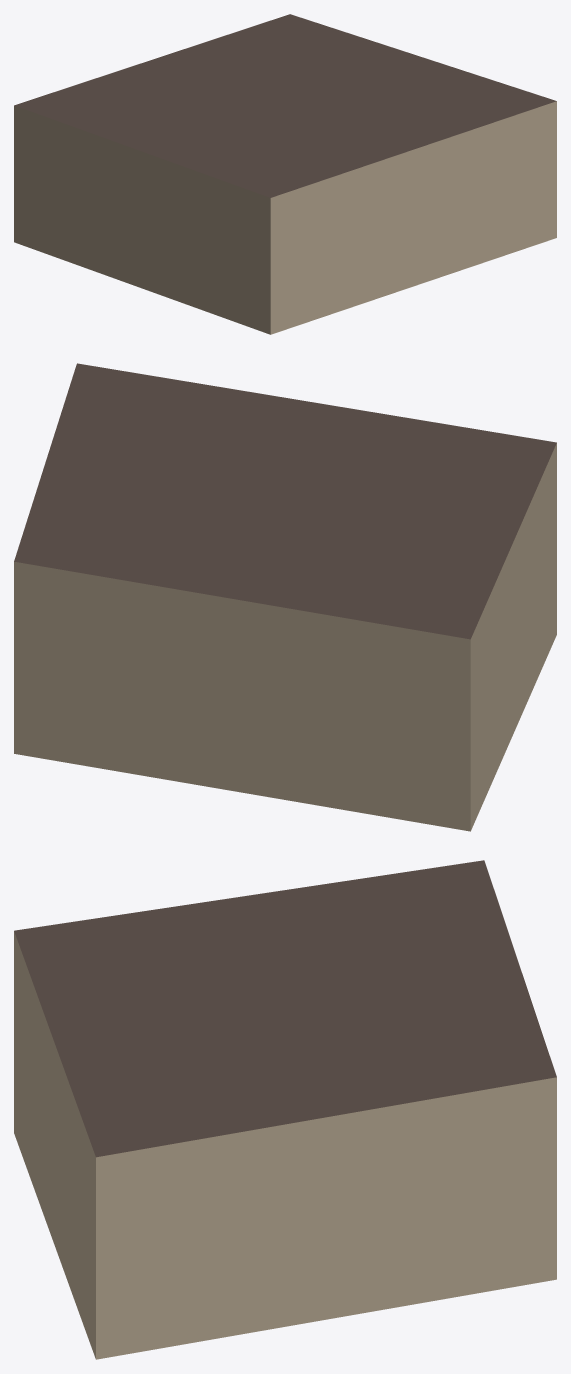
3 renders of one model, top to bottom at view 1: azimuth 30°, elevation 25°; view 2: azimuth 150°, elevation 25°; view 3: azimuth 270°, elevation 25°, orthographic. The views are drawn at different scales.
Parts seen in each view (by area): view 1: HP-w1512911277; view 2: HP-w1512911277; view 3: HP-w1512911277.
Boxes of the visible parts, x1=… form: HP-w1512911277: x1=14, y1=14, x2=556, y2=334; HP-w1512911277: x1=14, y1=363, x2=556, y2=831; HP-w1512911277: x1=14, y1=860, x2=556, y2=1359.
Size of the model in its own units: 28.34 by 9 by 21.89.
